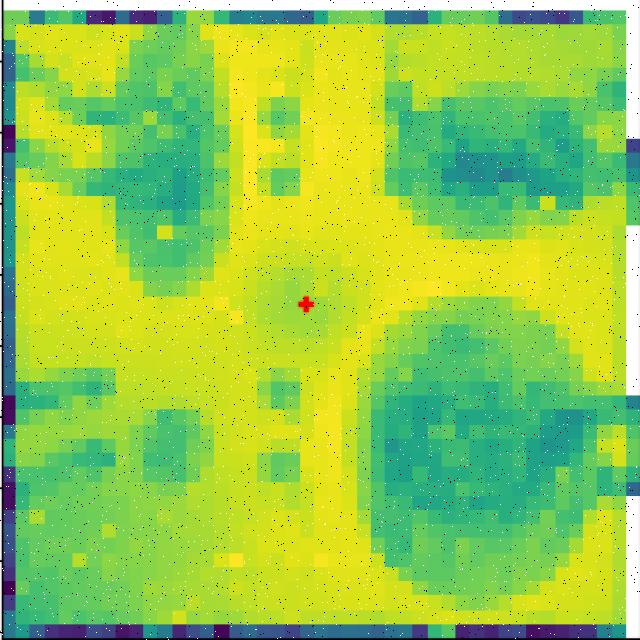Concrete: (411, 96, 591, 219)
Glass: (112, 54, 227, 296)
Metal: (386, 311, 576, 562)
Wood: (134, 407, 216, 495)
